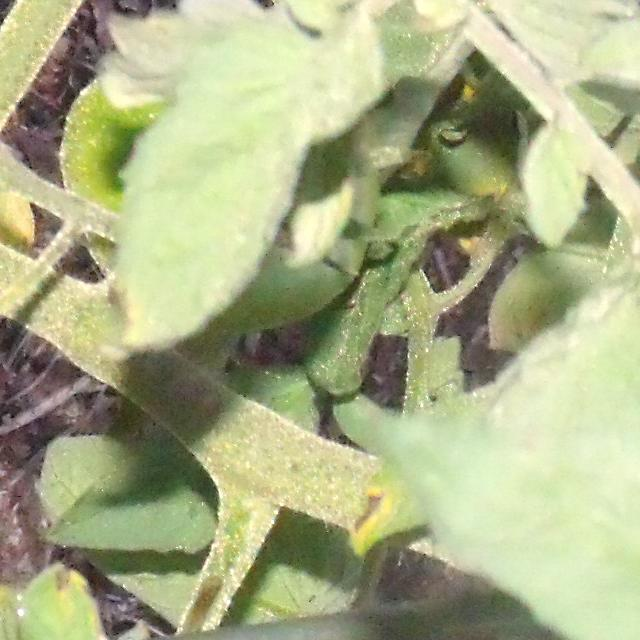Tomato leaf bacterial spot: (92, 0, 379, 371), (0, 495, 115, 640), (0, 0, 238, 7)
